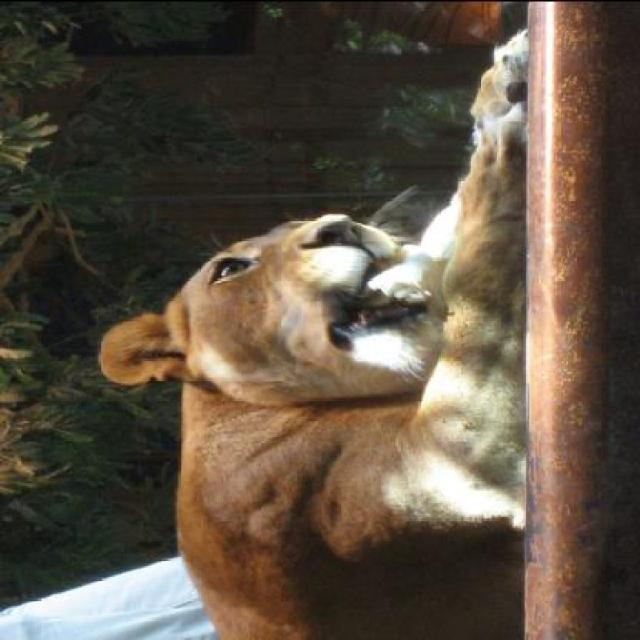Lion: (72, 51, 600, 638)
